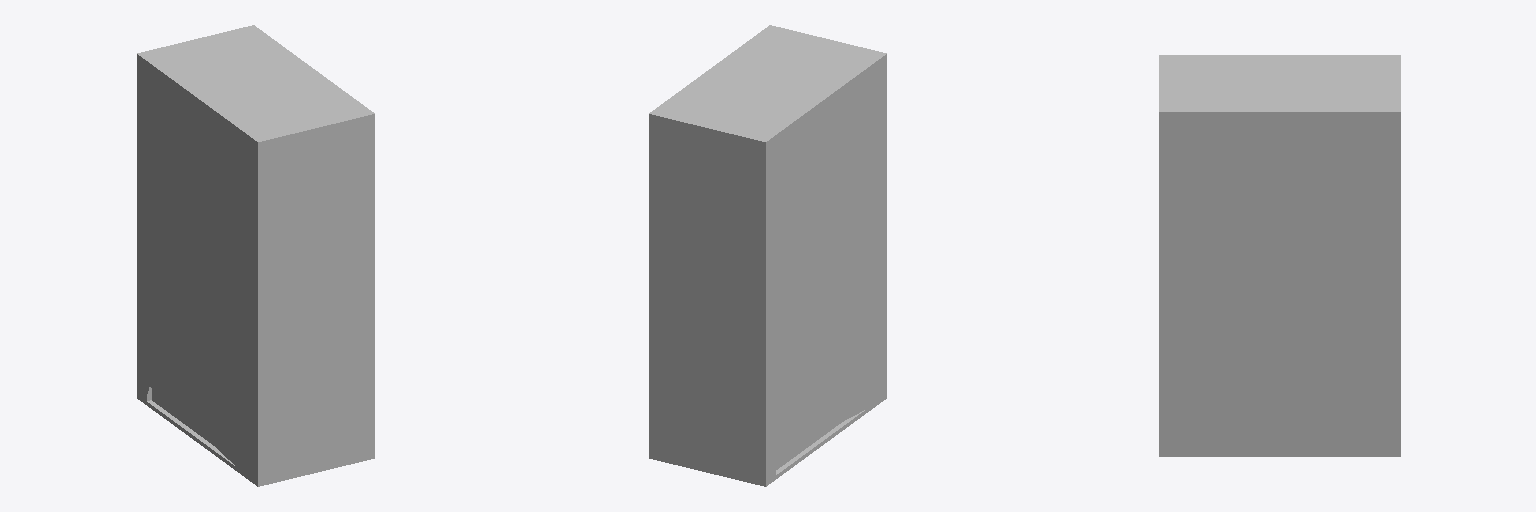
File: Vending Machine.obj
The picture shows the model from 3 angles: view 1: azimuth 30°, elevation 25°; view 2: azimuth 150°, elevation 25°; view 3: azimuth 270°, elevation 25°; orthographic projection.
Visible parts, largest first — view 1: Cube.034; view 2: Cube.034; view 3: Cube.034.
Boxes of the visible parts, x1=… form: Cube.034: x1=137, y1=25, x2=374, y2=486; Cube.034: x1=649, y1=25, x2=886, y2=486; Cube.034: x1=1159, y1=55, x2=1400, y2=456.
Bounding box in the file's own units: 1.72 × 4.82 × 3.08.